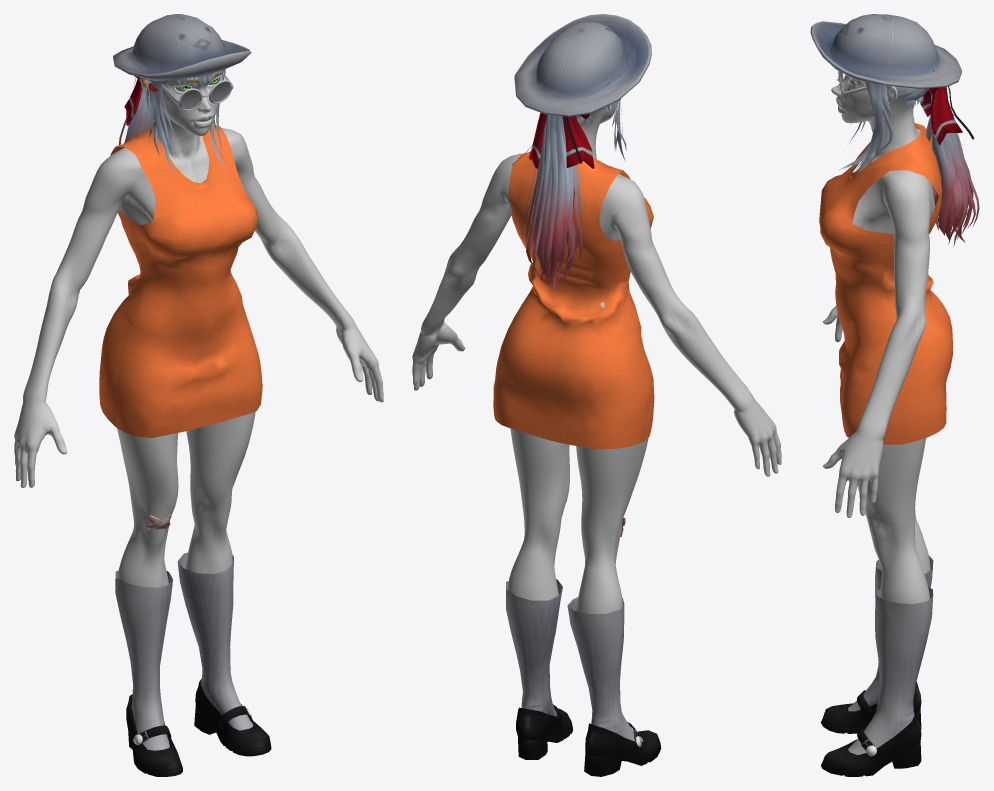
File: Character 11.fbx
The picture shows the model from 3 angles, left to right: view 1: azimuth 30°, elevation 25°; view 2: azimuth 150°, elevation 25°; view 3: azimuth 270°, elevation 25°; orthographic projection.
Visible parts, largest first — view 1: Dress 2, body.002, legs.001, socks 2, cap 3, shoes 13, head, w hair 19, glasses 5; view 2: Dress 2, body.002, legs.001, cap 3, socks 2, w hair 19, shoes 13, head; view 3: Dress 2, body.002, cap 3, legs.001, socks 2, w hair 19, shoes 13, head.
Boxes of the visible parts, box(x1,y1,x2,y2) form: Dress 2: box(99, 122, 262, 437); body.002: box(14, 128, 383, 487); legs.001: box(117, 411, 255, 587); socks 2: box(115, 514, 253, 750); cap 3: box(113, 14, 251, 125); shoes 13: box(126, 678, 271, 776); head: box(141, 70, 223, 152); w hair 19: box(119, 69, 226, 177); glasses 5: box(161, 71, 233, 110); Dress 2: box(493, 151, 654, 448); body.002: box(412, 153, 781, 476); legs.001: box(507, 428, 648, 613); cap 3: box(512, 14, 651, 168); socks 2: box(506, 517, 643, 741); w hair 19: box(518, 99, 626, 293); shoes 13: box(516, 704, 661, 776); head: box(579, 102, 615, 159); Dress 2: box(819, 123, 953, 444); body.002: box(823, 129, 934, 517); cap 3: box(810, 14, 974, 145); legs.001: box(857, 428, 930, 604); socks 2: box(848, 556, 933, 754); w hair 19: box(839, 72, 979, 246); shoes 13: box(821, 682, 921, 776); head: box(831, 74, 919, 153).
Bounding box in the file's own units: 96.47 × 187 × 39.42.
